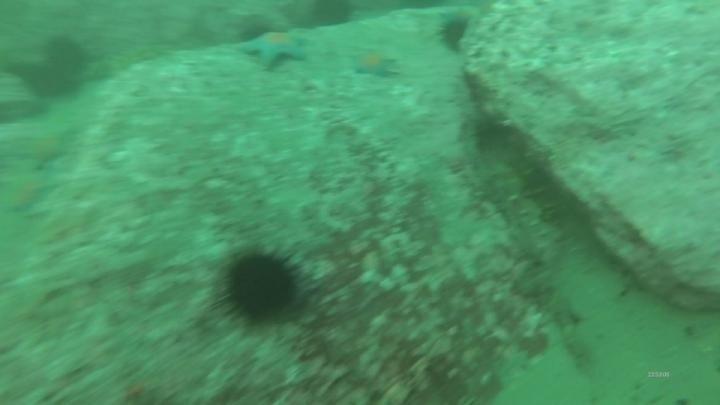echinus: (214, 243, 306, 329), (41, 33, 91, 79), (306, 1, 357, 32), (435, 14, 472, 56)
holothurian: (560, 324, 599, 378)
starfish: (237, 27, 311, 73), (14, 124, 78, 172), (1, 171, 58, 219), (348, 45, 401, 81), (116, 371, 166, 405)
